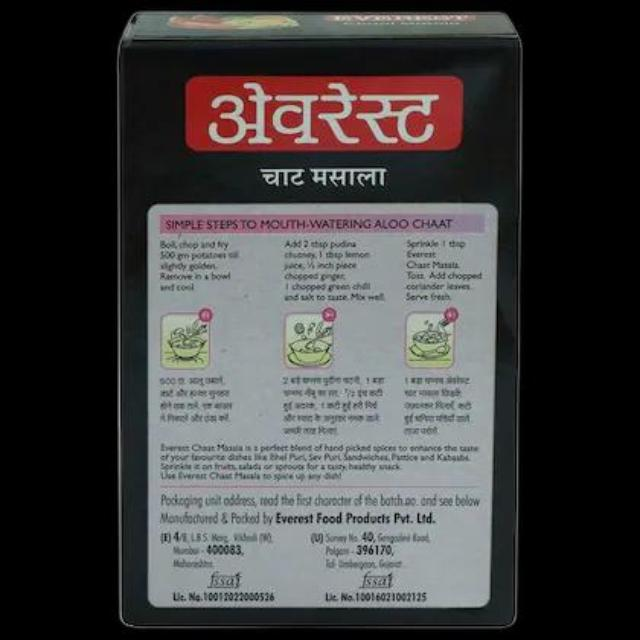Everest Chaat Masala 50 g: (110, 4, 524, 632)
